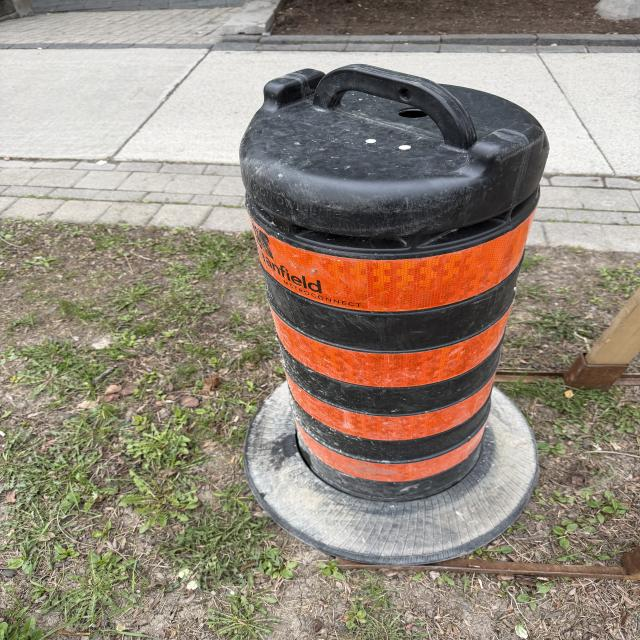Teraffic Barrel: (240, 65, 548, 563)
